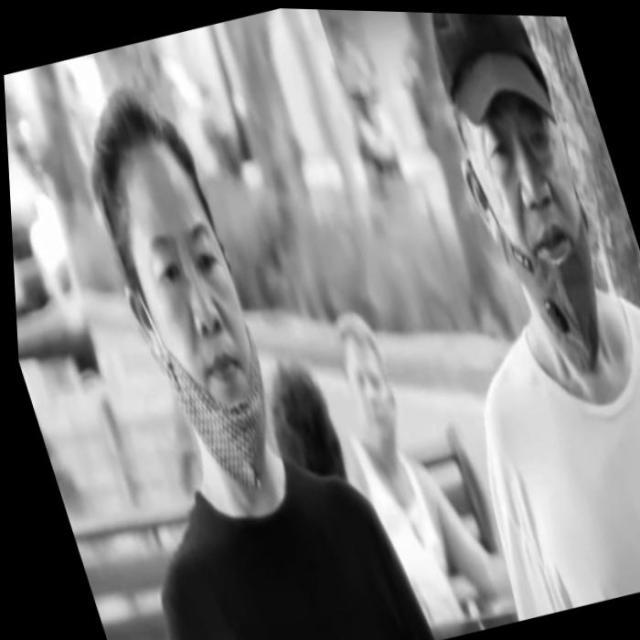hairnet: (120, 210, 294, 500), (464, 116, 630, 380)
